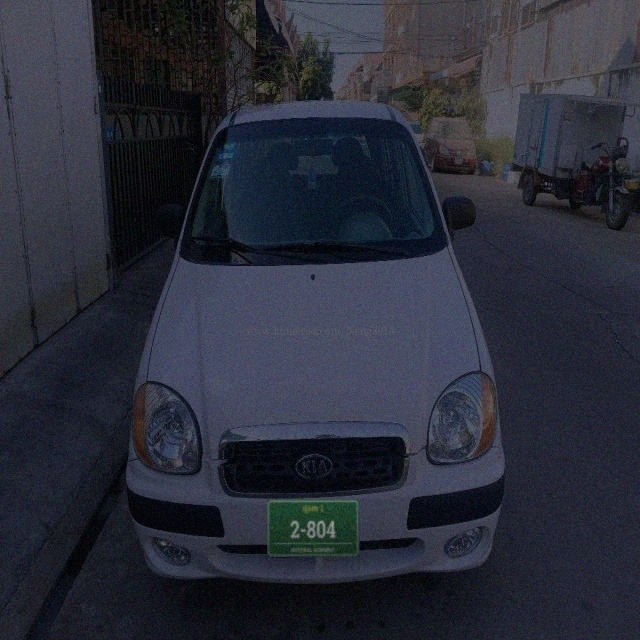Plate Number: (268, 500, 359, 557)
